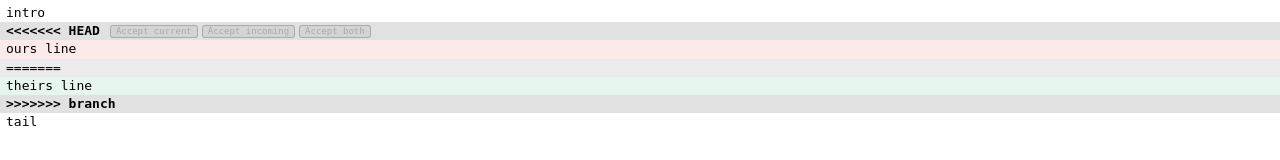
Test: mergeConflict extension › clears decorations once the conflict is resolved
This screenshot has width=1280, height=160.
Press the mouse on the button with class "cm-conflict-btn" showing "Accept current" at (154, 32), box [110,25,198,38]
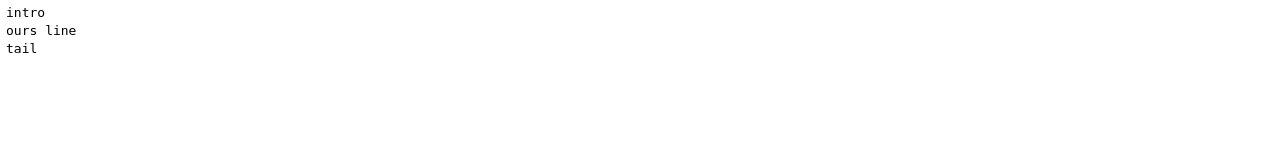
Expected: the element with class "cm-conflict-toolbar" is gone
